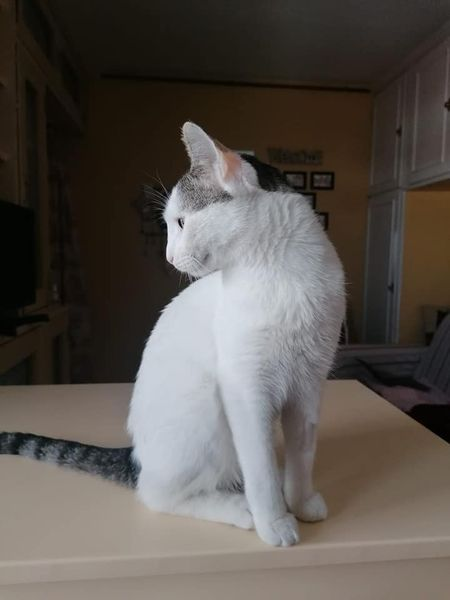cat: (1, 121, 373, 557)
